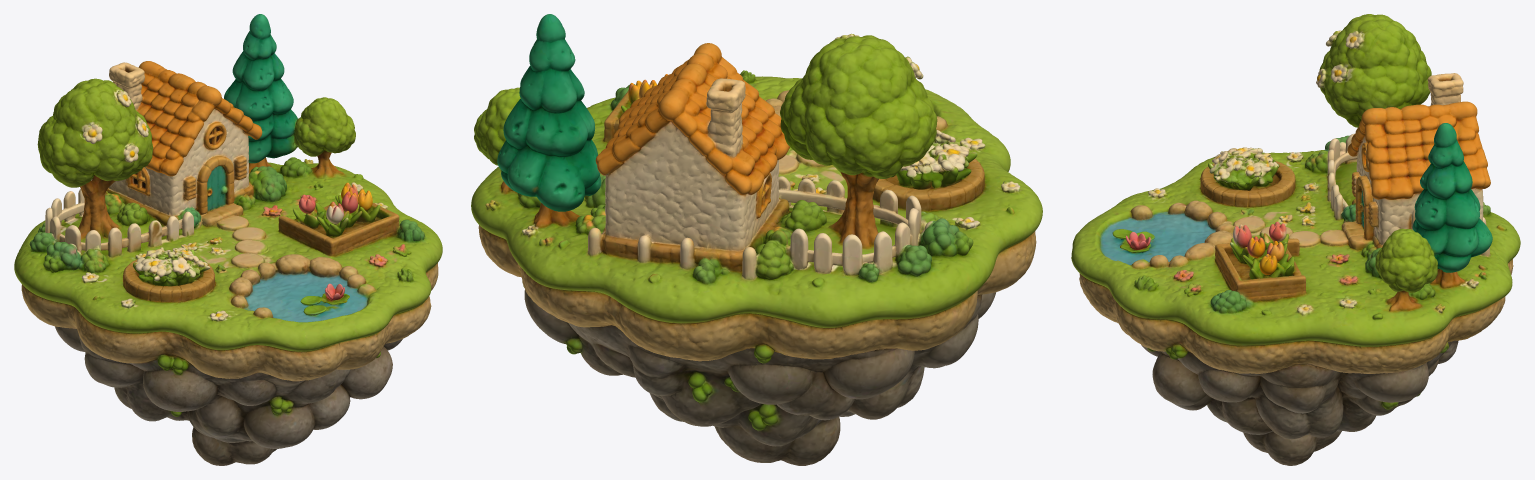
The model's file is island-latest-optimized.glb.
3 views of the same model, side by side, from view 1: azimuth 30°, elevation 25°; view 2: azimuth 150°, elevation 25°; view 3: azimuth 270°, elevation 25° (orthographic). The views are drawn at different scales.
Parts seen in each view (by area): view 1: Mesh_0; view 2: Mesh_0; view 3: Mesh_0.
Boxes of the visible parts, <box> form: Mesh_0: <box>14,14,442,465</box>; Mesh_0: <box>471,14,1042,465</box>; Mesh_0: <box>1071,14,1520,465</box>.
Size of the model in its own units: 10.23 by 10 by 10.64.
1 material, 1 textured.
